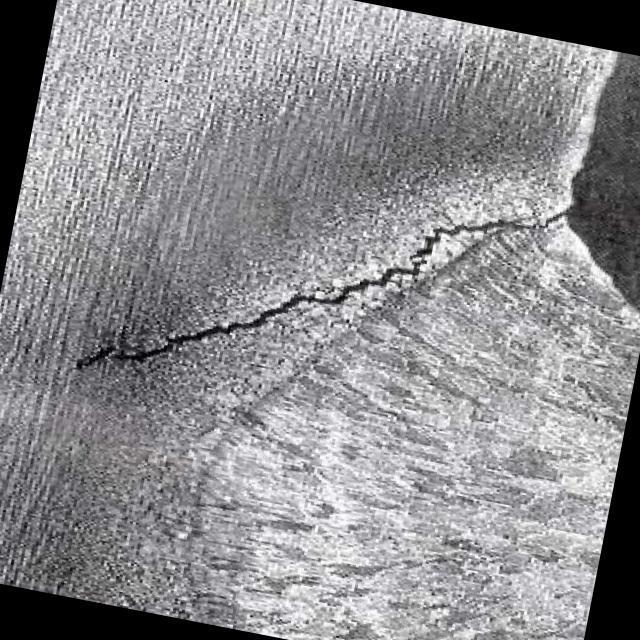defect: (55, 209, 568, 378)
